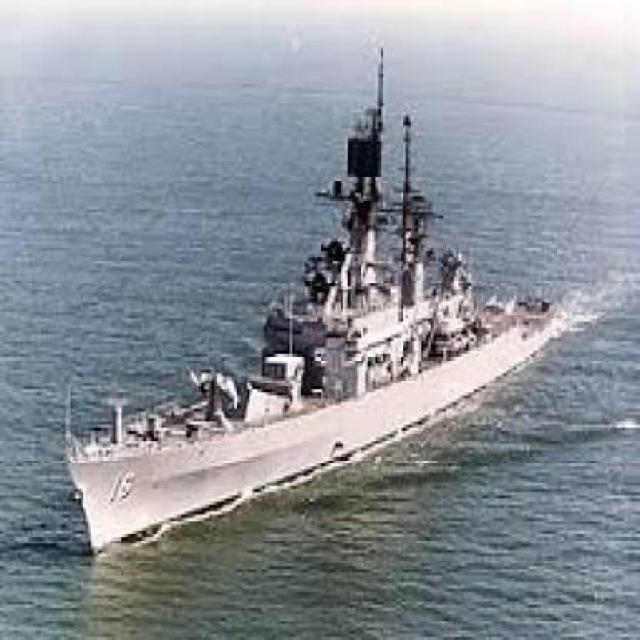warship2: (49, 27, 590, 600)
